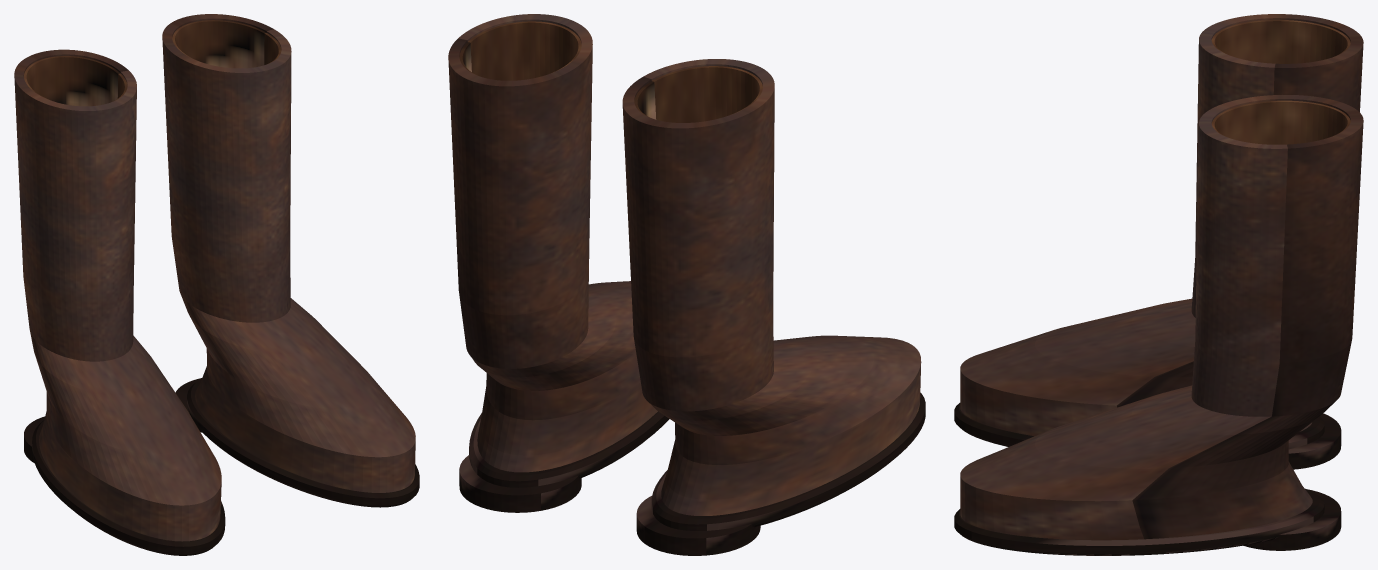
3 views of the same model, side by side, from view 1: azimuth 30°, elevation 25°; view 2: azimuth 150°, elevation 25°; view 3: azimuth 270°, elevation 25° (orthographic). The views are drawn at different scales.
Visible parts, largest first — view 1: right_upper, left_upper, left_lining, right_lining, right_sole, left_sole; view 2: left_upper, right_upper, right_lining, left_lining, left_sole, right_sole, right_heel, left_heel; view 3: right_upper, left_upper, right_sole, right_lining, left_lining, right_heel, left_sole, left_heel.
Part boxes in pixels (<box>): right_upper: <box>162,14,415,492</box>; left_upper: <box>14,49,221,541</box>; left_lining: <box>24,56,127,106</box>; right_lining: <box>172,20,281,68</box>; right_sole: <box>187,379,419,507</box>; left_sole: <box>32,420,225,555</box>; left_upper: <box>622,59,921,515</box>; right_upper: <box>448,14,657,472</box>; right_lining: <box>459,21,581,80</box>; left_lining: <box>634,66,762,122</box>; left_sole: <box>651,392,925,530</box>; right_sole: <box>469,411,669,487</box>; right_heel: <box>459,455,581,512</box>; left_heel: <box>636,496,760,555</box>; right_upper: <box>960,95,1363,540</box>; left_upper: <box>960,14,1363,436</box>; right_sole: <box>954,488,1324,555</box>; right_lining: <box>1211,100,1350,144</box>; left_lining: <box>1211,20,1350,63</box>; right_heel: <box>1243,489,1341,550</box>; left_sole: <box>954,403,1324,449</box>; left_heel: <box>1288,413,1341,469</box>.
Bounding box in the file's own units: 91.92 × 107 × 97.25.
Materials: 3 (3 with a texture image).
